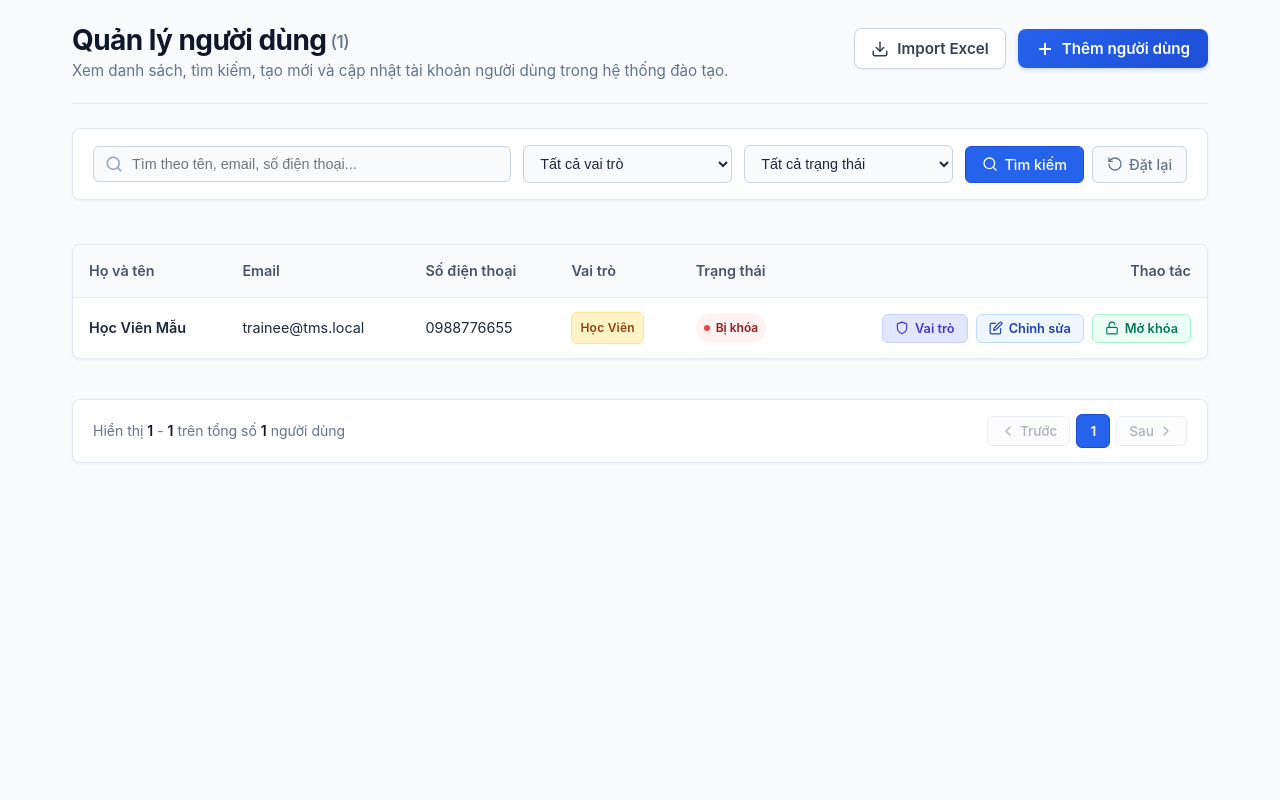
SCRUM-95: Test Tổng Thể Giao Diện Quản Trị Người Dùng (Overall Test Matrix) › D. Edit User Modal Matrix › 9. Preload thông tin, vai trò là read-only, không có ô mật khẩu, cập nhật thành công
The width and height of the screenshot is (1280, 800).
Click the button with test id "btn-edit-user-3".
click(1030, 328)  # box [976,314,1084,343]
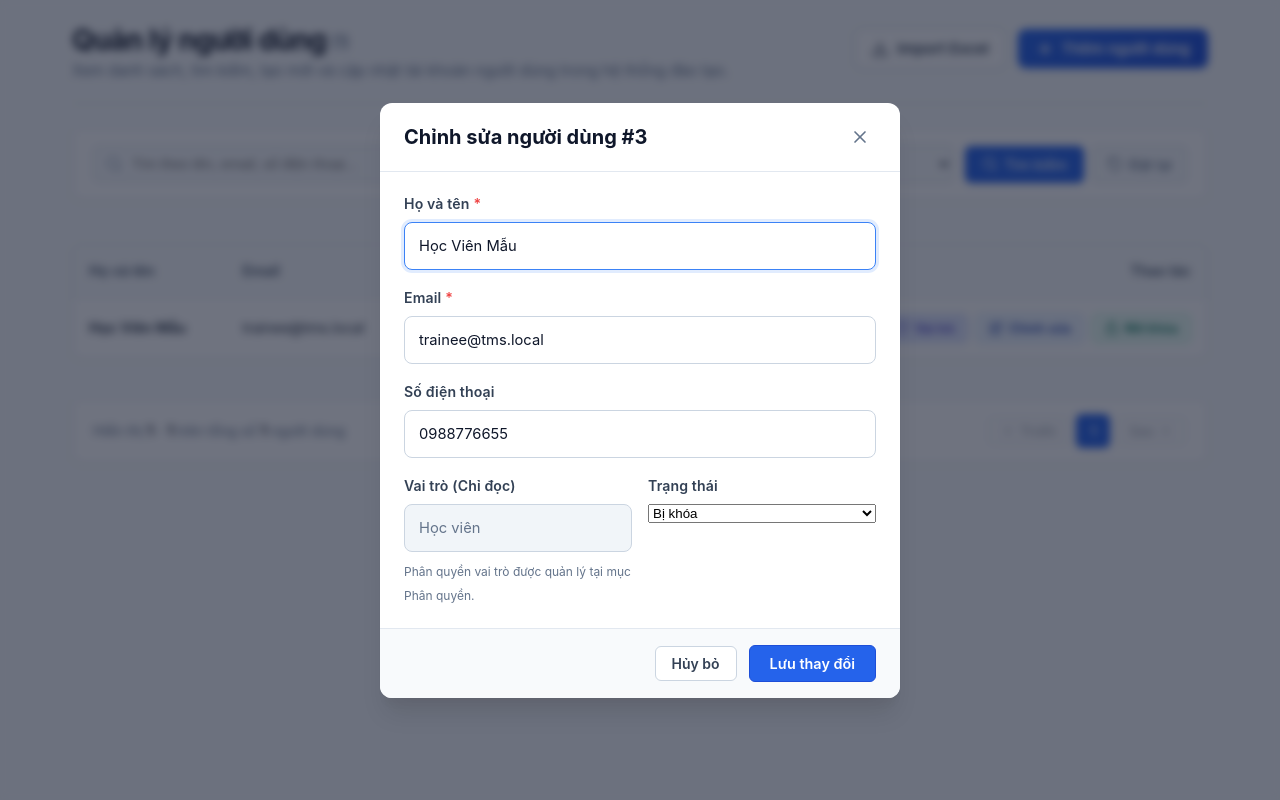
Expected: the dialog with test id "edit-user-modal" is shown, [380,102,900,698]
Expected: the field with test id "input-edit-role-readonly" is disabled, [404,504,632,552]
Expected: the field with test id "input-edit-role-readonly" holds "Học viên", [404,504,632,552]
# Thay đổi họ tên và trạng thái
Replace the text in the field with test id "input-edit-name" with "Học Viên Mẫu Đã Cập Nhật" at (640, 246), box [404,222,876,270]
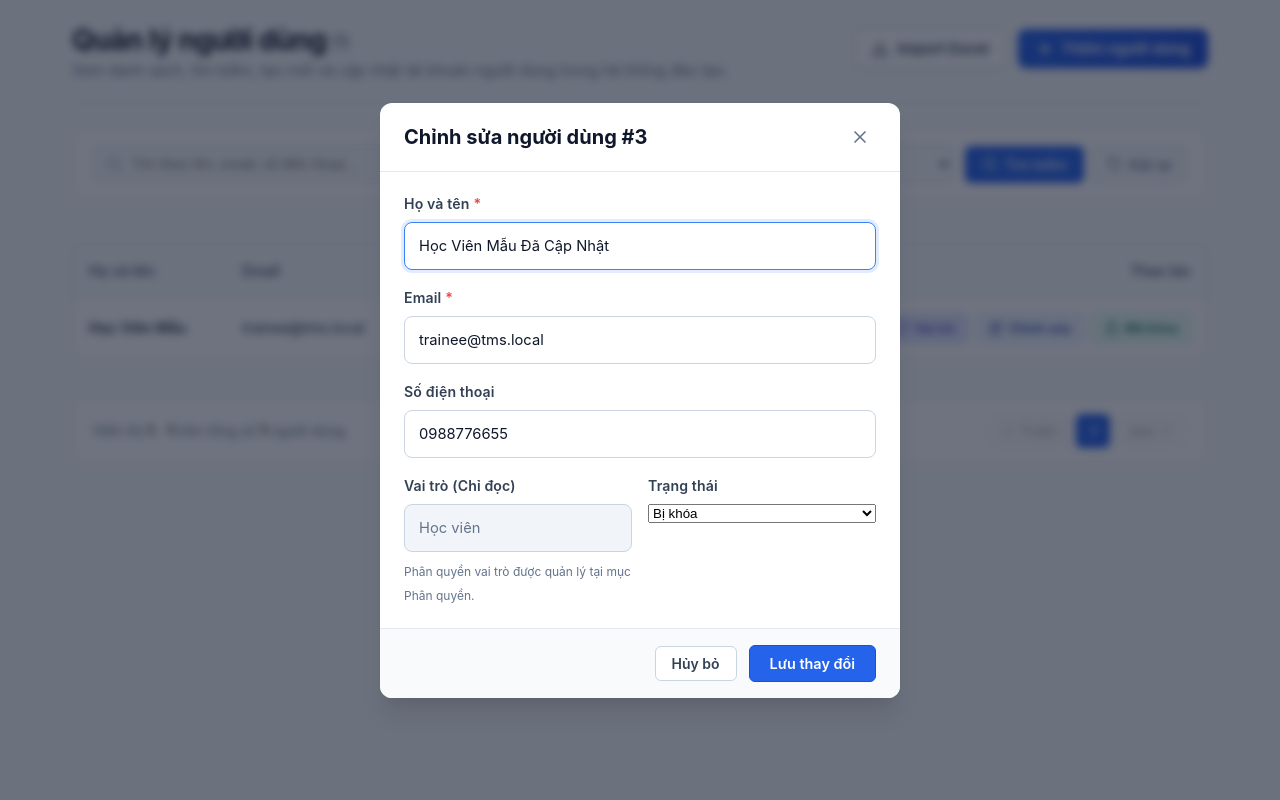
Select "Hoạt động" in the dropdown with test id "select-edit-status" at (762, 513), box [648,504,876,522]
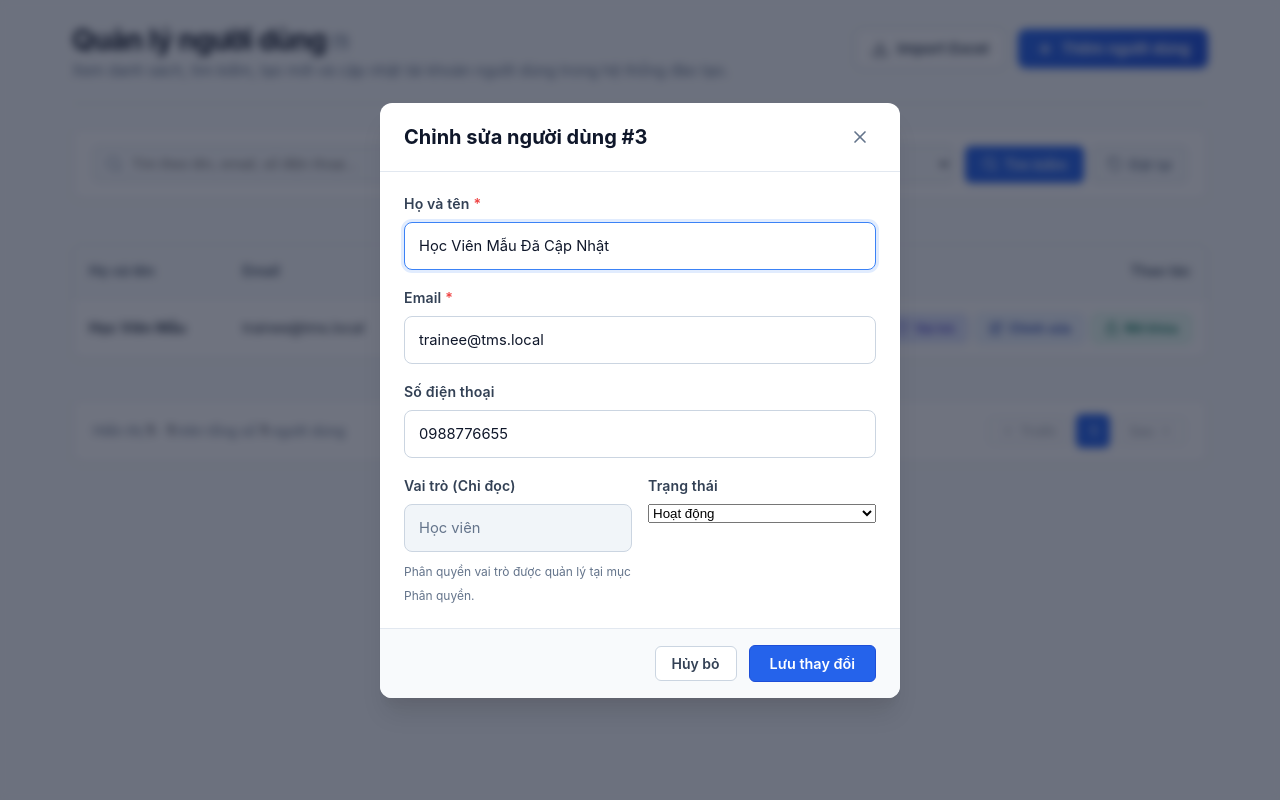
Click the button with test id "btn-submit-edit".
click(812, 663)  # box [749,644,876,682]
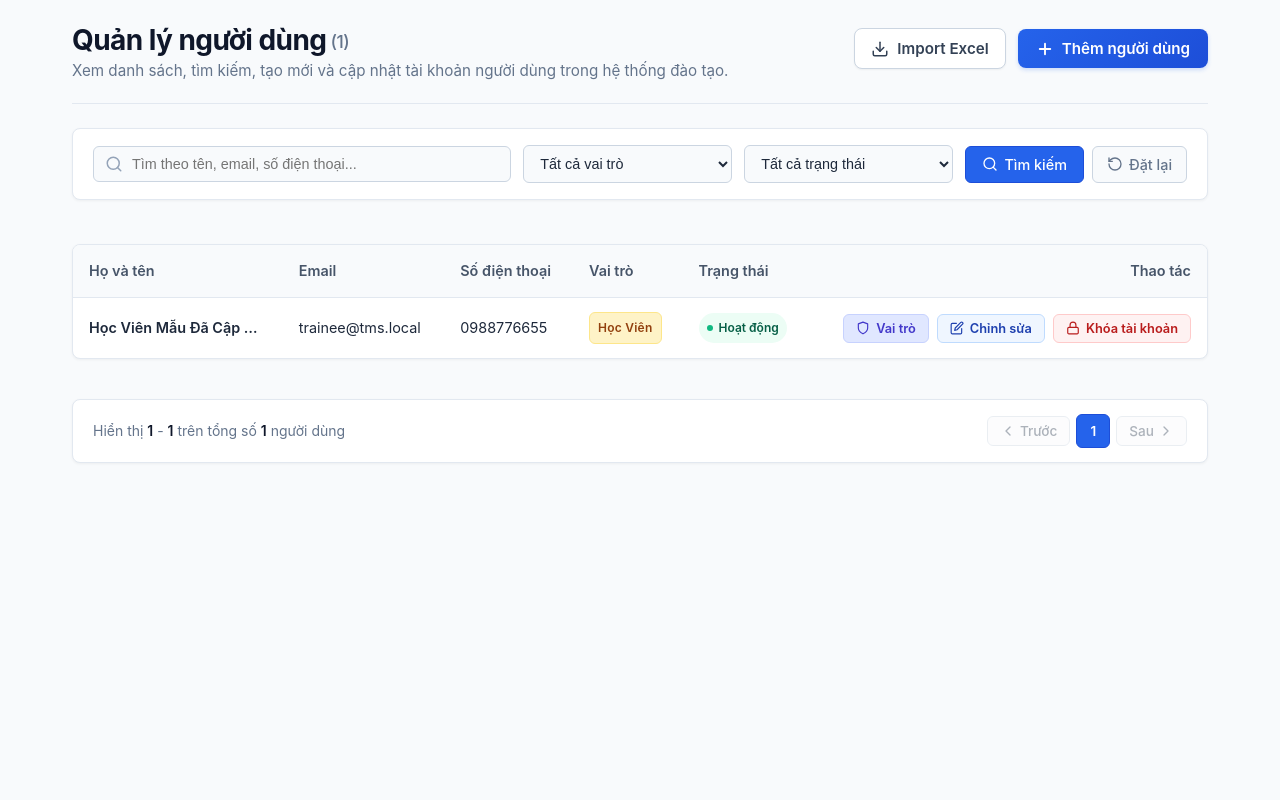
Expected: the dialog with test id "edit-user-modal" is gone
Expected: the text "Học Viên Mẫu Đã Cập Nhật" is shown, [73,298,283,358]
